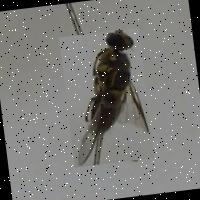Oriental-fruit-fly: (59, 28, 154, 168)
